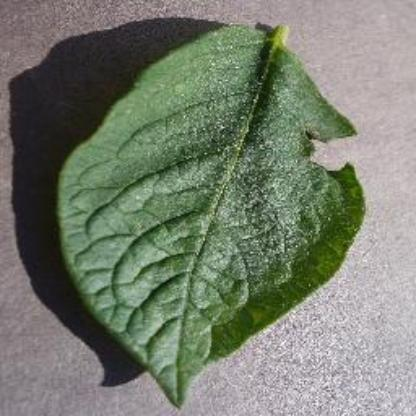Healthy-plant: (49, 23, 377, 410)
